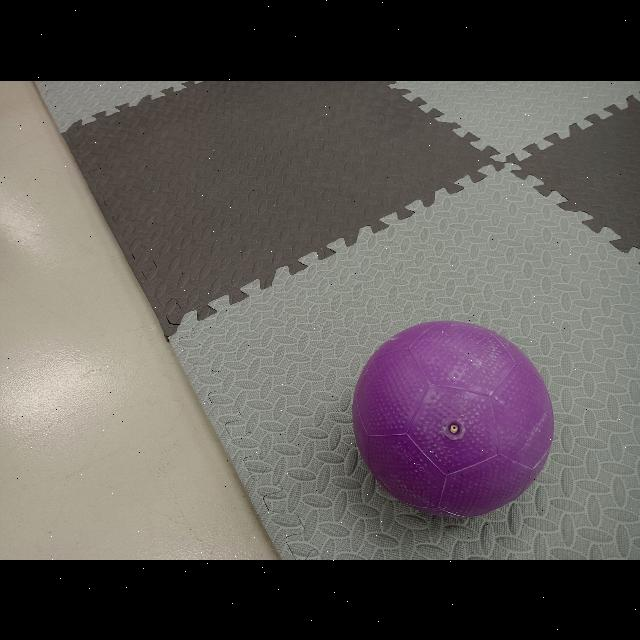P: (353, 319, 552, 516)
